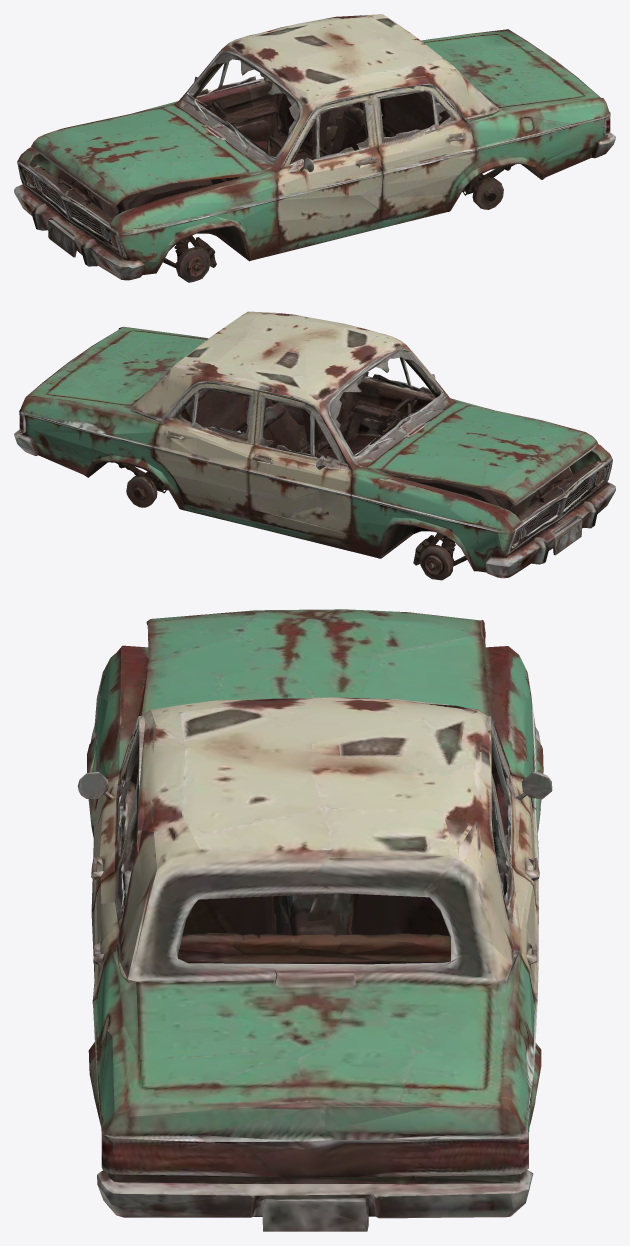
File: prop-carhulk.glb
3 renders of one model, top to bottom at view 1: azimuth 30°, elevation 25°; view 2: azimuth 150°, elevation 25°; view 3: azimuth 270°, elevation 25°, orthographic. The views are drawn at different scales.
Bounding box in the file's own units: 1.9 × 0.549 × 0.7626.
1 material, 1 textured.
